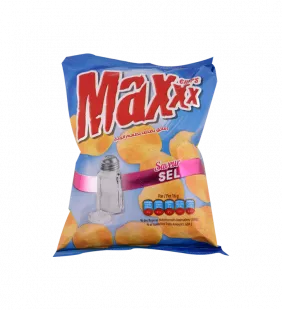MAXXX: (45, 44, 235, 267)
